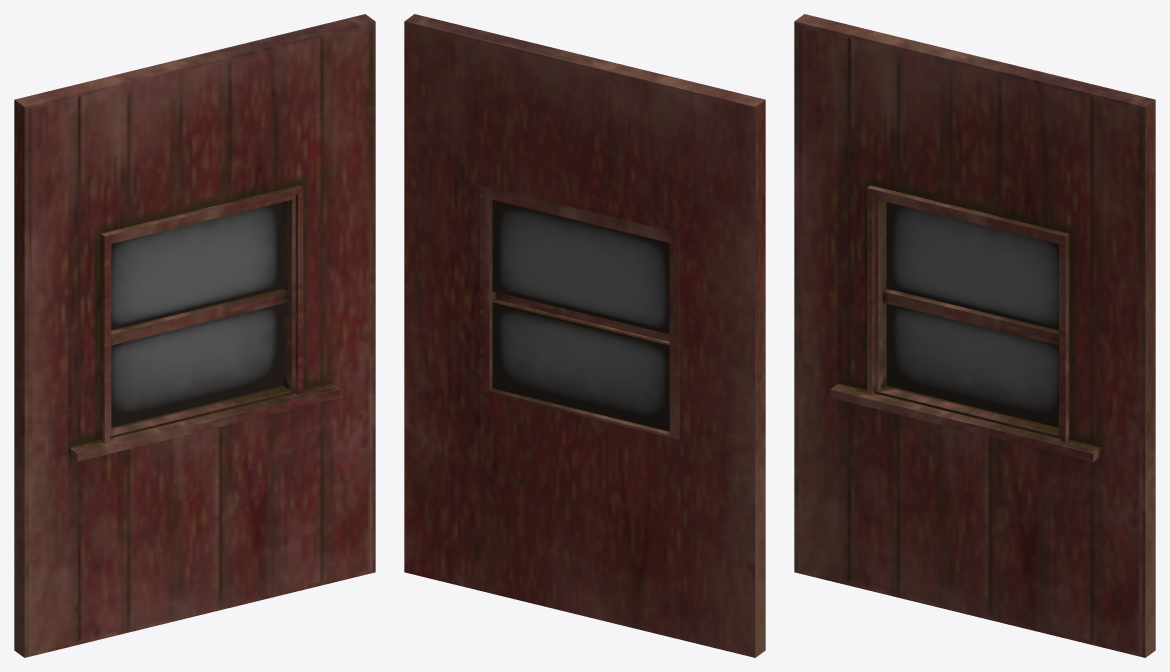
The model's file is Opening window wall.fbx.
3 views of the same model, side by side, from view 1: azimuth 30°, elevation 25°; view 2: azimuth 150°, elevation 25°; view 3: azimuth 330°, elevation 25° (orthographic).
Parts seen in each view (by area): view 1: Parede com janela de abrir; view 2: Parede com janela de abrir; view 3: Parede com janela de abrir.
Boxes of the visible parts, box(x1,y1,x2,y2) form: Parede com janela de abrir: box(14, 14, 375, 657); Parede com janela de abrir: box(404, 14, 765, 657); Parede com janela de abrir: box(794, 14, 1155, 657).
Size of the model in its own units: 200 by 300 by 18.6.
